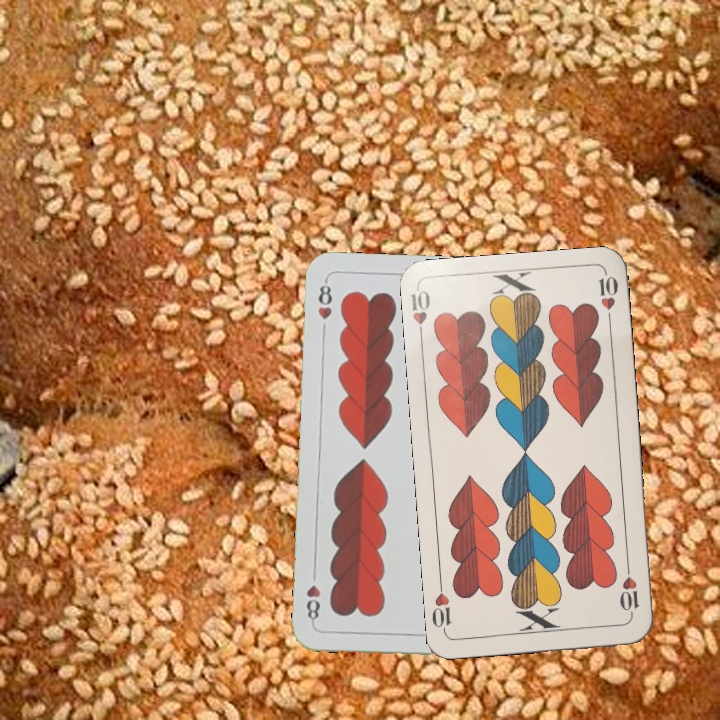H10: (616, 560, 642, 619), (407, 285, 433, 344)
H8: (314, 276, 335, 322)
